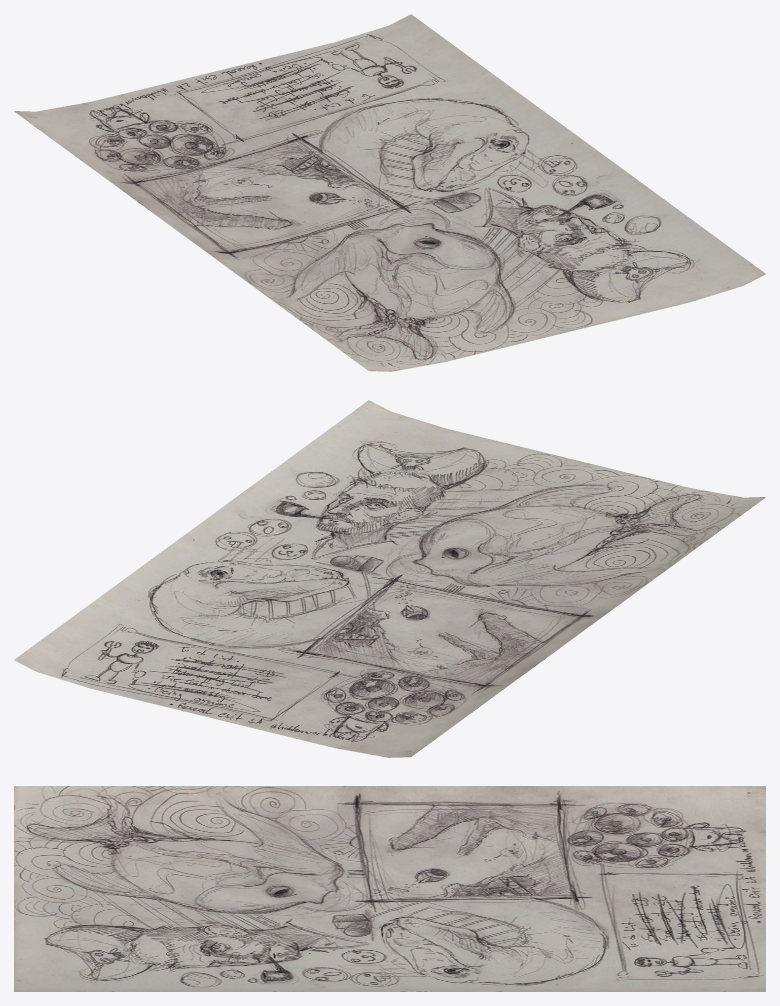
File: sketches_amy_zep.dae
The picture shows the model from 3 angles, top to bottom: view 1: azimuth 30°, elevation 25°; view 2: azimuth 150°, elevation 25°; view 3: azimuth 270°, elevation 25°; orthographic projection. The views are drawn at different scales.
Parts seen in each view (by area): view 1: Plane; view 2: Plane; view 3: Plane.
Part boxes in pixels (x1,y1,x2,y2): Plane: [14, 14, 765, 371]; Plane: [14, 400, 765, 757]; Plane: [14, 786, 765, 991].
Size of the model in its own units: 0.5715 by 0.8846 by 0.0138.
1 material, 1 textured.
